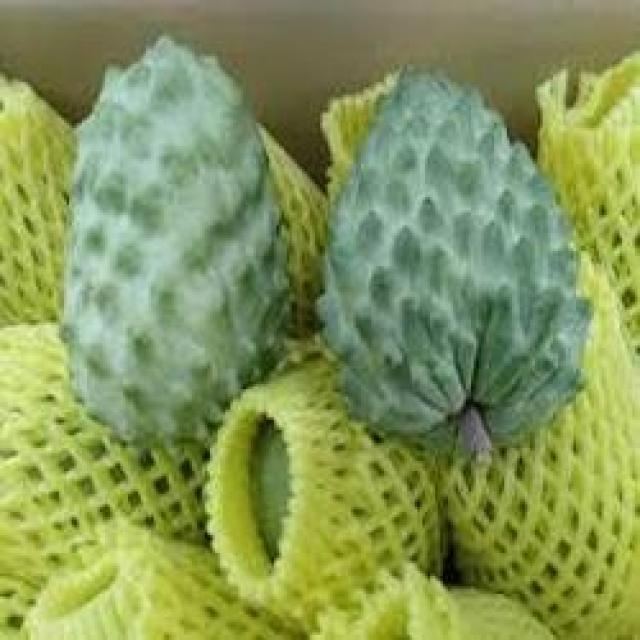apple: (322, 61, 592, 468), (64, 36, 300, 438)
